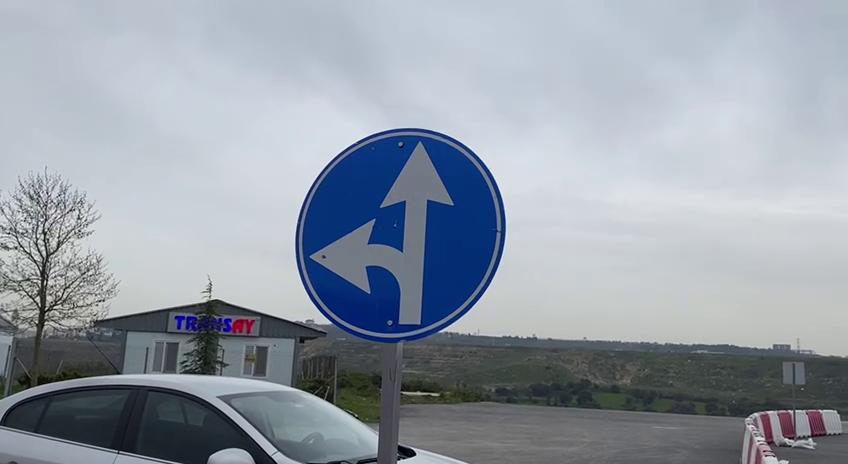forwardAndLeft: (290, 123, 510, 347)
